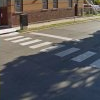crosswalk: (3, 36, 100, 69)
